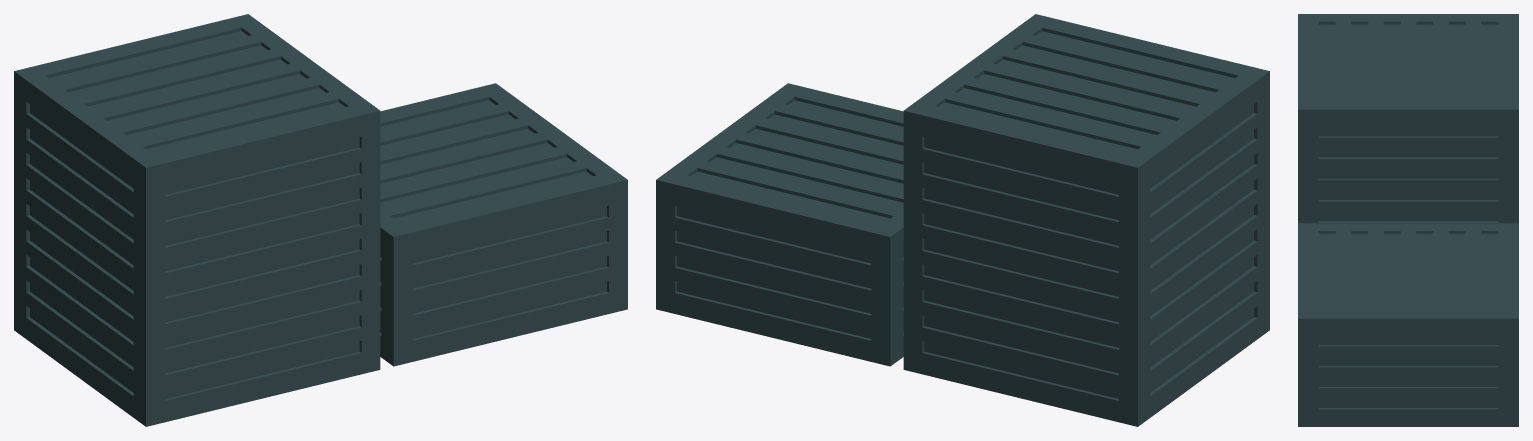
Rendered from OT_200_blue_wooden_box_var1.glb.
The picture shows the model from 3 angles, left to right: view 1: azimuth 30°, elevation 25°; view 2: azimuth 150°, elevation 25°; view 3: azimuth 270°, elevation 25°; orthographic projection. The views are drawn at different scales.
Visible parts, largest first — view 1: box_var1; view 2: box_var1; view 3: box_var1.
Boxes of the visible parts, left/top/right/bottom form: box_var1: left=14, top=14, right=627, bottom=426; box_var1: left=656, top=14, right=1269, bottom=426; box_var1: left=1298, top=14, right=1518, bottom=426.
Bounding box in the file's own units: 2.92 × 1.5 × 1.39.
